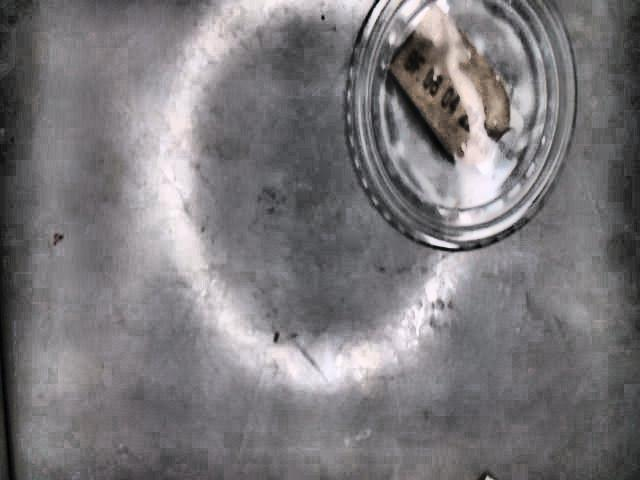Paper: (391, 4, 511, 165)
Plastic: (345, 0, 581, 253)
